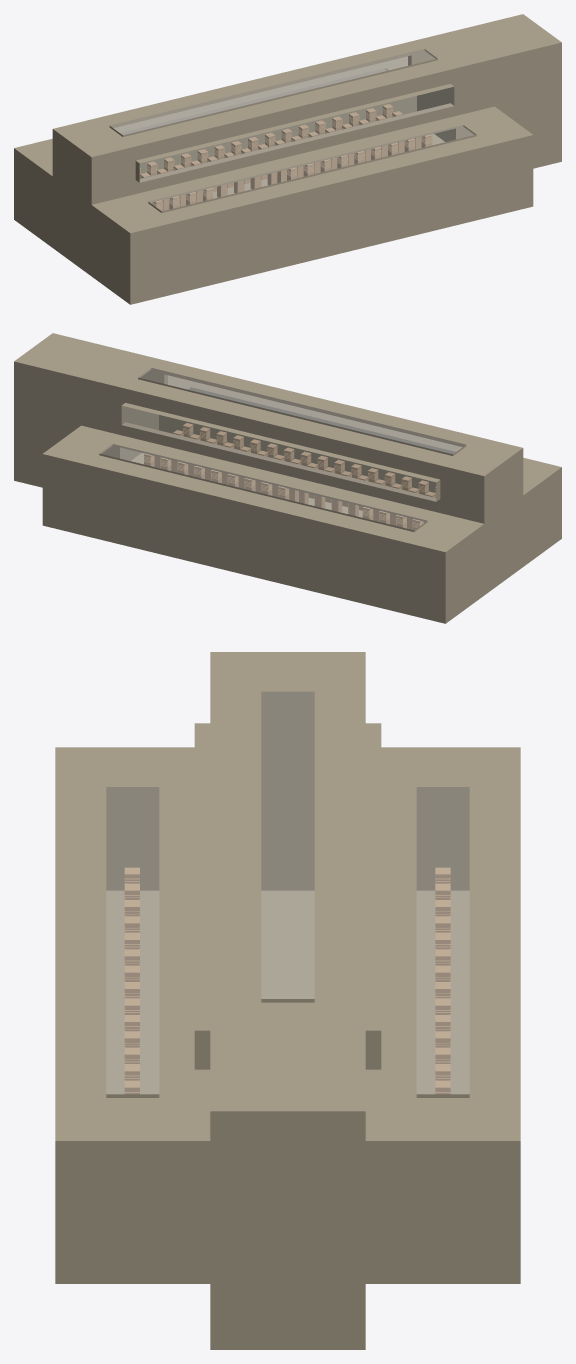
The model's file is brrhall.fbx.
3 views of the same model, one above another, from view 1: azimuth 30°, elevation 25°; view 2: azimuth 150°, elevation 25°; view 3: azimuth 270°, elevation 25° (orthographic). The views are drawn at different scales.
Visible parts, largest first — view 1: Cube, Totems.001, Cube.002; view 2: Cube, Totems.001; view 3: Cube, Totems.001, Cube.002.
Boxes of the visible parts, x1,y1,x2,y2 form: Cube: (14,14,561,304); Totems.001: (139,104,432,211); Cube.002: (533,149,561,168); Cube: (14,333,561,623); Totems.001: (144,423,436,530); Cube: (55,652,520,1349); Totems.001: (124,867,450,1094); Cube.002: (210,1325,365,1349).
Size of the model in its own units: 46.68 by 11.48 by 20.
